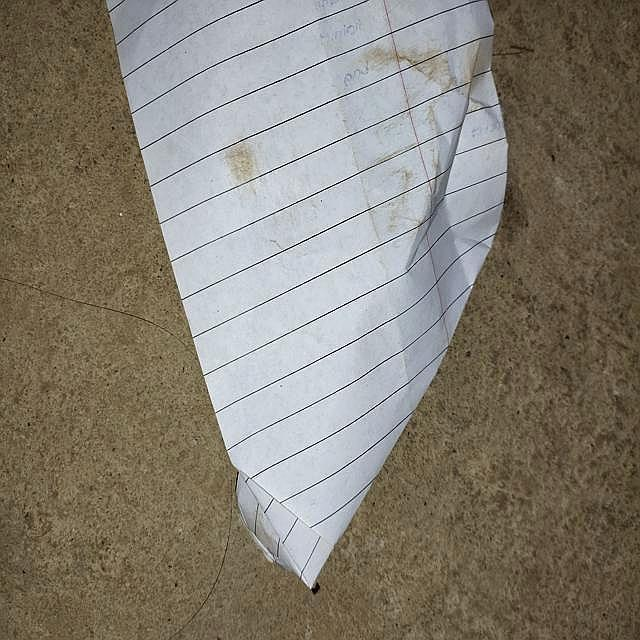Biodegradable: (109, 1, 509, 589)
